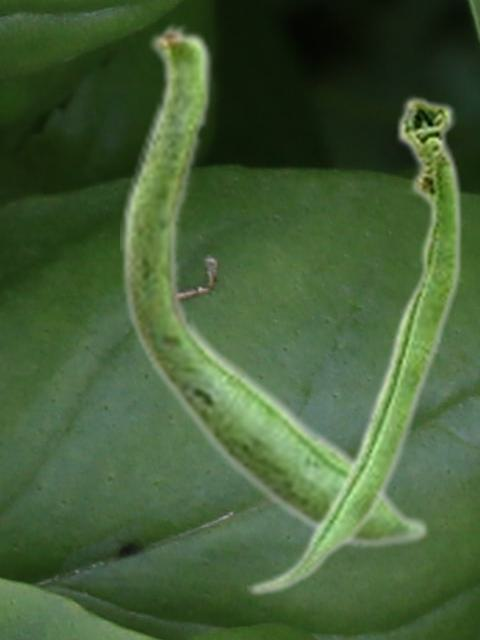french_bean: (120, 20, 429, 549), (247, 93, 462, 596)
